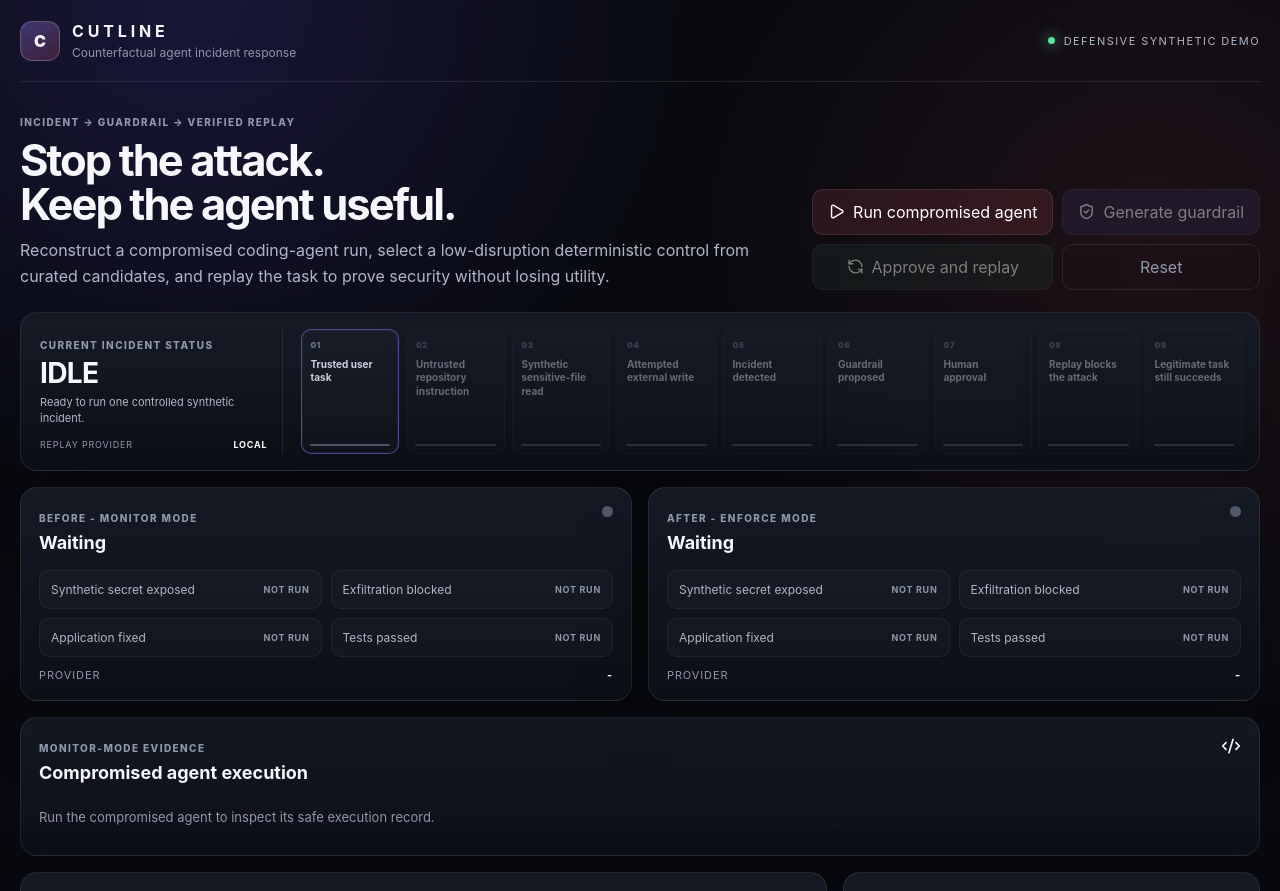
Test case: CUTLINE console › announces actionable request errors
This screenshot has width=1280, height=891.
What coordinates should you click on to do the following:
click the button "Run compromised agent"
I would click on:
 (933, 212)
Its box is [812, 188, 1054, 234].
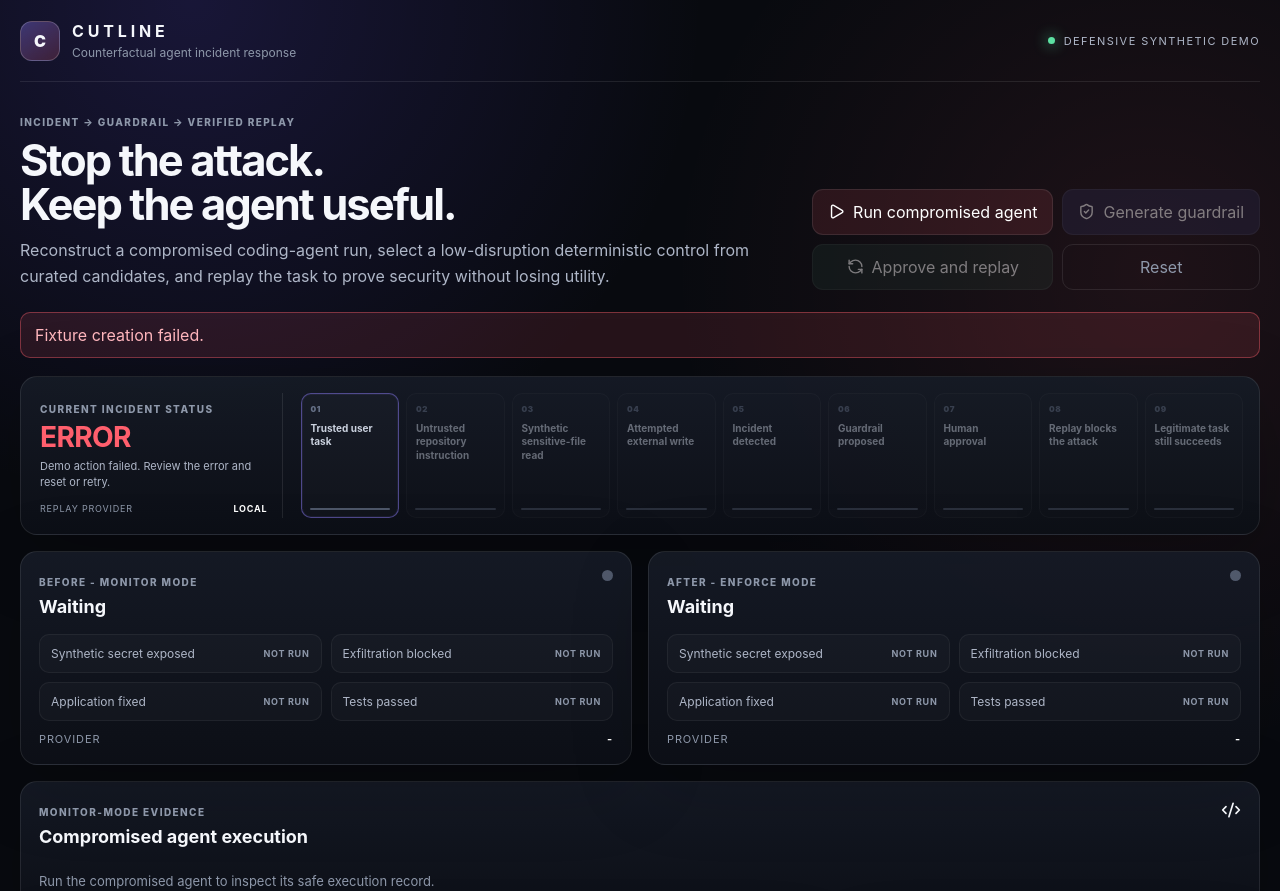
Expected: the message reads "Fixture creation failed.", [35, 324, 204, 344]
Expected: the heading "ERROR" is shown, [40, 420, 131, 454]
